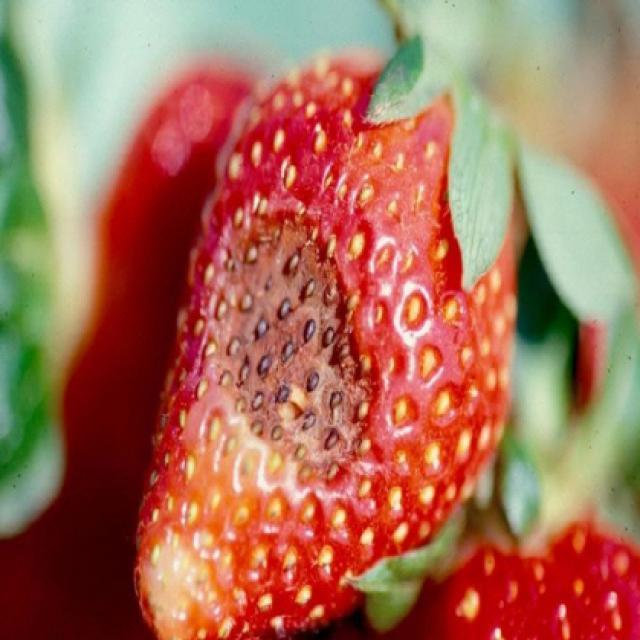Anthracnose Fruit Rot: (134, 52, 513, 640)
